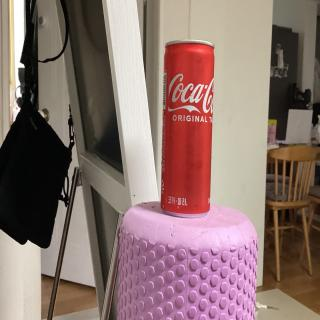cocacola: (158, 34, 218, 216)
